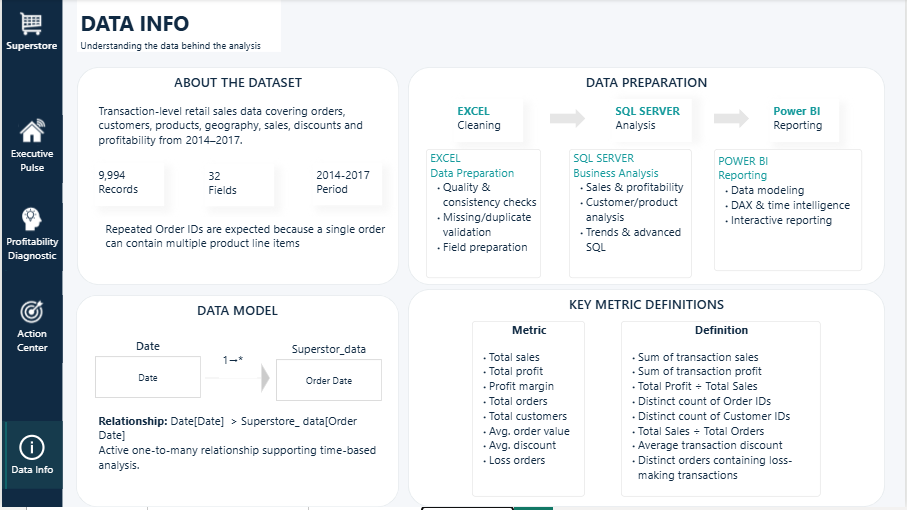

The page's visual inventory and layout, read from the dashboard file:
{"tool":"powerbi","page":{"name":"Data Info","canvas":[1280,720],"ordinal":3},"visuals":[{"type":"shape","box":[0,0,85.7,720.6],"z":0},{"type":"actionButton","box":[0,0,84.3,91.1],"z":1000},{"type":"actionButton","box":[0,164.6,85.7,95.7],"z":2000},{"type":"shape","box":[0,288.9,11.8,95.7],"z":3000},{"type":"actionButton","box":[0,288.9,85.7,95.7],"z":4000},{"type":"actionButton","box":[0,419.9,85.7,95.7],"z":5000},{"type":"actionButton","box":[0,598,85.7,95.7],"z":6000},{"type":"shape","box":[0,599.5,11.3,95],"z":7000},{"type":"textbox","title":"DATA INFO","box":[106.3,0,289.1,75.1],"z":8000},{"type":"shape","title":"PRIORITY AREA","box":[106.3,96.4,456.4,309],"z":9000},{"type":"shape","box":[575.4,96.4,676.1,309],"z":11000},{"type":"shape","box":[104.9,419.5,457.8,300.5],"z":12000},{"type":"shape","box":[575.4,411,676.1,309],"z":14000},{"type":"textbox","box":[131.8,141.7,418.1,86.5],"z":15000},{"type":"textbox","box":[131.8,232.4,97.8,60.9],"z":16000},{"type":"textbox","box":[287.7,233.9,97.8,59.5],"z":17000},{"type":"textbox","box":[440.8,232.4,97.8,59.5],"z":18000},{"type":"textbox","box":[131.8,581.1,406.8,104.9],"z":19000},{"type":"textbox","box":[640.6,141.7,97.8,60.9],"z":20000},{"type":"textbox","box":[864.6,141.7,113.4,60.9],"z":21000},{"type":"textbox","box":[1088.5,141.7,97.8,60.9],"z":22000},{"type":"textbox","box":[600.9,212.6,163,182.8],"z":23000},{"type":"textbox","box":[803.6,212.6,174.3,182.8],"z":24000},{"type":"textbox","box":[1009.1,212.6,209.8,172.9],"z":25000},{"type":"shape","box":[776.7,155.9,50,27],"z":26000},{"type":"shape","box":[1009.1,155.9,49.6,26.9],"z":27000},{"type":"shape","title":"Date","box":[131.8,480.5,150.2,85],"z":28000},{"type":"shape","title":"Superstor_data","box":[388.3,484.7,150.2,85],"z":29000},{"type":"shape","box":[287.7,515.9,92.1,42.5],"z":30000},{"type":"textbox","box":[307.6,494.6,53.9,42.5],"z":31000},{"type":"textbox","box":[141.8,309.1,406.8,86.5],"z":32000},{"type":"textbox","box":[666.1,456.4,160.2,249.4],"z":33000},{"type":"textbox","box":[877.3,456.4,283.5,249.4],"z":34000}]}

Visuals, with their boxes on the page's 1280x720 design canvas (x1, y1, x2, y2). These are canvas units, not pixel positions in the 907x510 screenshot, which may show the page scaled, cropped or inside an application window:
shape: 0/0/86/721
actionButton: 0/0/84/91
actionButton: 0/165/86/260
shape: 0/289/12/385
actionButton: 0/289/86/385
actionButton: 0/420/86/516
actionButton: 0/598/86/694
shape: 0/600/11/694
"DATA INFO" textbox: 106/0/395/75
"PRIORITY AREA" shape: 106/96/563/405
shape: 575/96/1252/405
shape: 105/420/563/720
shape: 575/411/1252/720
textbox: 132/142/550/228
textbox: 132/232/230/293
textbox: 288/234/386/293
textbox: 441/232/539/292
textbox: 132/581/539/686
textbox: 641/142/738/203
textbox: 865/142/978/203
textbox: 1088/142/1186/203
textbox: 601/213/764/395
textbox: 804/213/978/395
textbox: 1009/213/1219/386
shape: 777/156/827/183
shape: 1009/156/1059/183
"Date" shape: 132/480/282/566
"Superstor_data" shape: 388/485/538/570
shape: 288/516/380/558
textbox: 308/495/362/537
textbox: 142/309/549/396
textbox: 666/456/826/706
textbox: 877/456/1161/706
